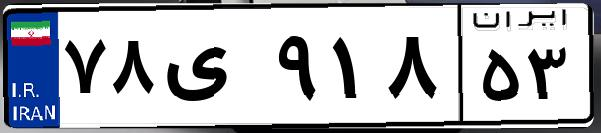1: (330, 28, 385, 110)
3: (525, 38, 570, 115)
5: (475, 38, 525, 113)
7: (57, 26, 110, 100)
8: (385, 28, 445, 110), (110, 28, 158, 98)
9: (270, 28, 330, 110)
ی: (158, 20, 270, 120)
